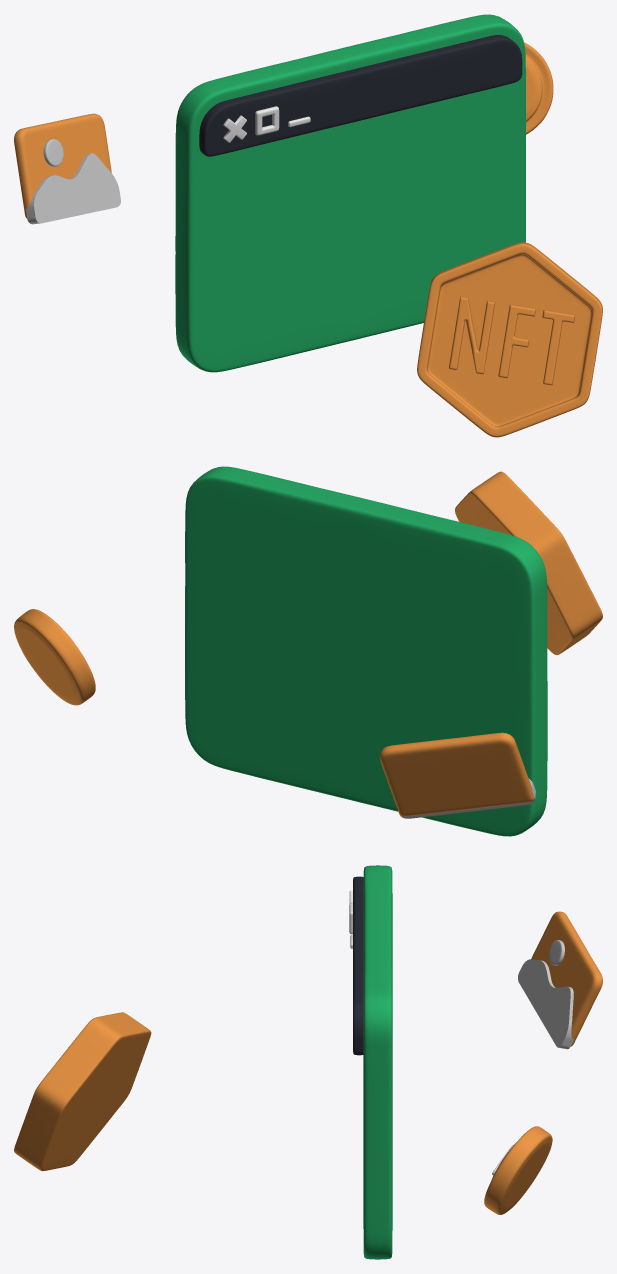
Rendered from digital-product-animated-3d-icon-1568739268405.glb.
The picture shows the model from 3 angles, top to bottom: view 1: azimuth 30°, elevation 25°; view 2: azimuth 150°, elevation 25°; view 3: azimuth 270°, elevation 25°; orthographic projection. The views are drawn at different scales.
Visible parts, largest first — view 1: Pop Up, NFT Icon, Taskbar, Image.003, Circle.001; view 2: Pop Up, Image.003, NFT Icon, Circle.001; view 3: NFT Icon, Pop Up, Image.003, Circle.001, Taskbar.
Boxes of the visible parts, x1,y1,x2,y2 form: Pop Up: (175,14,525,372); NFT Icon: (417,242,602,437); Taskbar: (199,35,522,156); Image.003: (14,113,120,224); Circle.001: (524,42,553,134); Pop Up: (185,466,547,836); Image.003: (379,732,535,818); NFT Icon: (455,471,602,655); Circle.001: (14,609,95,705); NFT Icon: (14,1012,151,1171); Pop Up: (363,865,392,1259); Image.003: (518,911,602,1049); Circle.001: (484,1126,552,1214); Taskbar: (353,876,363,1055).
Bounding box in the file's own units: 2.55 × 1.35 × 2.72.
